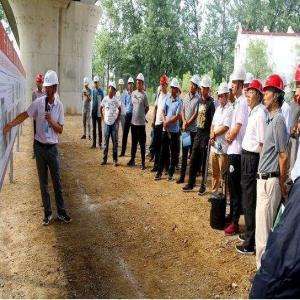red: (264, 73, 285, 112), (247, 78, 263, 110), (160, 76, 169, 95), (36, 73, 45, 91)
white: (43, 69, 60, 100), (232, 66, 246, 98), (217, 83, 231, 109), (201, 74, 212, 99), (190, 75, 200, 97), (171, 76, 181, 98), (136, 72, 146, 92), (109, 83, 118, 100), (128, 76, 135, 92), (94, 76, 101, 90), (119, 78, 125, 92), (84, 76, 90, 90)
